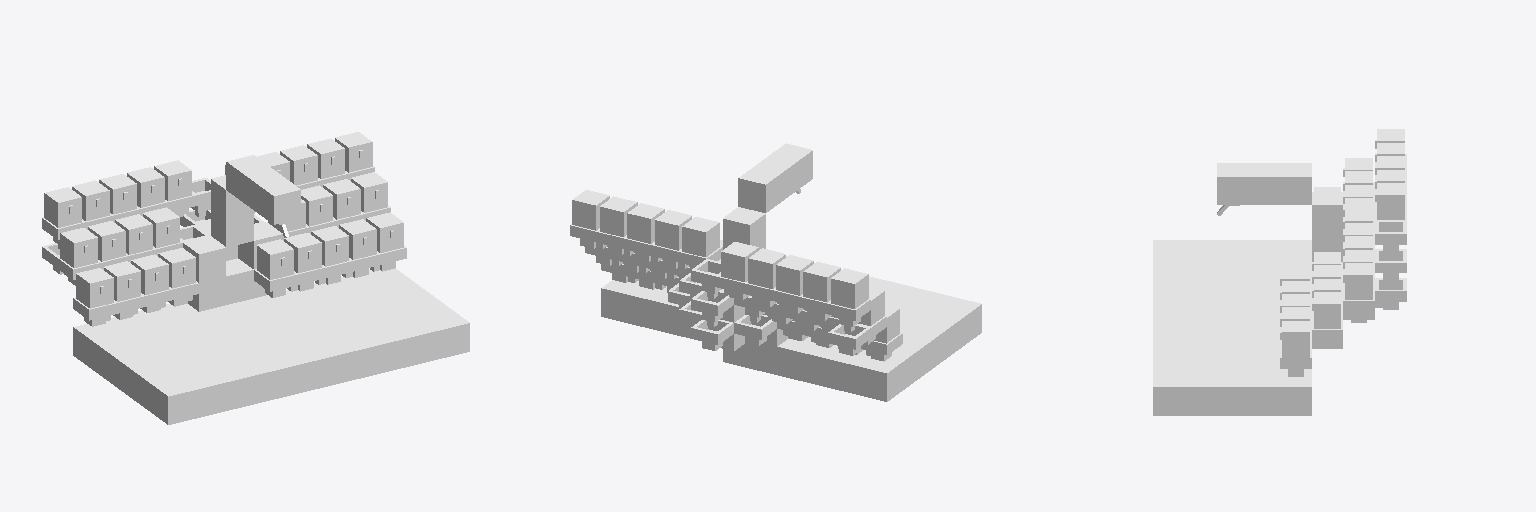
The model's file is Mineways2Skfb.obj.
3 views of the same model, side by side, from view 1: azimuth 30°, elevation 25°; view 2: azimuth 150°, elevation 25°; view 3: azimuth 270°, elevation 25° (orthographic).
Visible parts, largest first — view 1: Creative_test_world_may_2020__0_63_-26_to_15_69_-15; view 2: Creative_test_world_may_2020__0_63_-26_to_15_69_-15; view 3: Creative_test_world_may_2020__0_63_-26_to_15_69_-15.
Part boxes in pixels (bbox=[...]): Creative_test_world_may_2020__0_63_-26_to_15_69_-15: bbox=[42, 132, 469, 424]; Creative_test_world_may_2020__0_63_-26_to_15_69_-15: bbox=[570, 143, 981, 401]; Creative_test_world_may_2020__0_63_-26_to_15_69_-15: bbox=[1153, 129, 1406, 415].
Bounding box in the file's own units: 1.83 × 1 × 1.33.